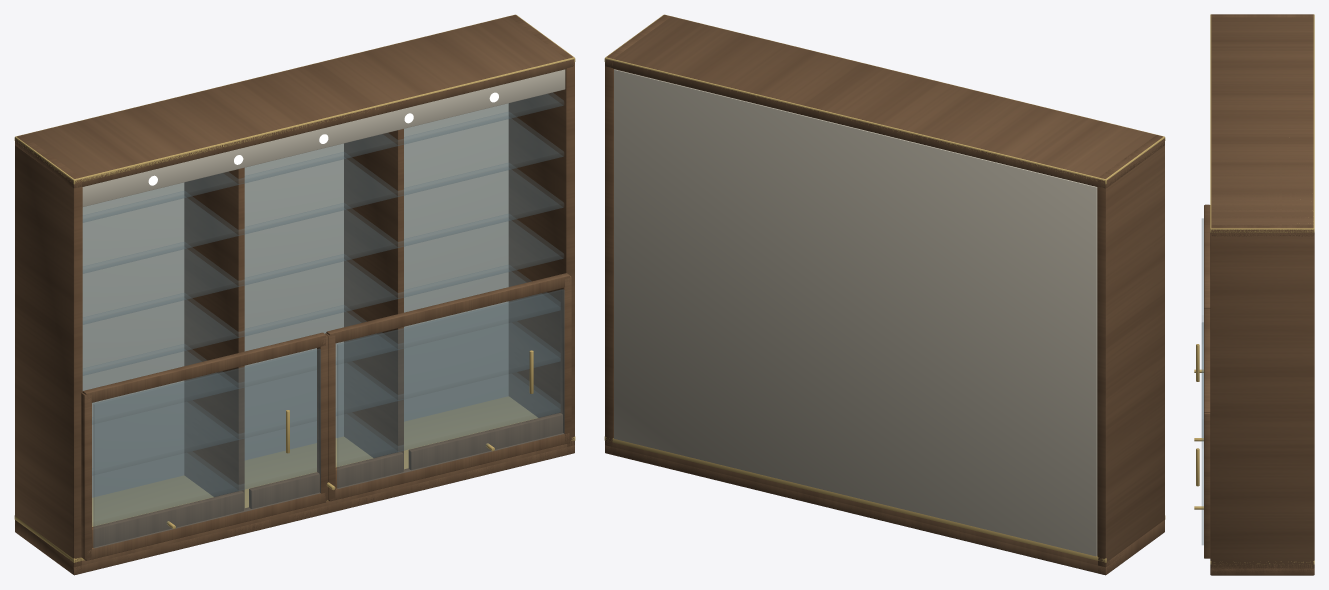
File: pf_display_built_in_cabinetry_t5.glb
The picture shows the model from 3 angles, left to right: view 1: azimuth 30°, elevation 25°; view 2: azimuth 150°, elevation 25°; view 3: azimuth 270°, elevation 25°; orthographic projection. The views are drawn at different scales.
Parts seen in each view (by area): view 1: Case_Back, Door_Glass_01, Door_Glass_02, Case_Top, Case_Left, Shelf_06, Shelf_04, Shelf_05, Case_Right, Millwork_Divider_01, Shelf_01, Shelf_02 (+19 smaller); view 2: Case_Back, Case_Top, Case_Left, Case_Base, Plinth_Base, Case_Right, Plinth_Trim, Crown_Trim; view 3: Case_Right, Case_Top, Crown_Main, Crown_Trim, Door_Frame_02_R, Case_Base, Plinth_Base, Door_Frame_01_Top, Door_Frame_02_Top, Door_Glass_02, Door_Glass_01, Case_Left.
Part boxes in pixels (left/top/right/bottom): Case_Back: left=82, top=103, right=508, bottom=497; Door_Glass_01: left=93, top=349, right=320, bottom=548; Door_Glass_02: left=337, top=289, right=564, bottom=488; Case_Top: left=15, top=16, right=573, bottom=188; Case_Left: left=15, top=135, right=82, bottom=574; Shelf_06: left=83, top=112, right=563, bottom=273; Shelf_04: left=83, top=214, right=563, bottom=375; Shelf_05: left=83, top=163, right=563, bottom=324; Case_Right: left=508, top=15, right=574, bottom=454; Millwork_Divider_01: left=184, top=167, right=244, bottom=507; Shelf_01: left=92, top=374, right=560, bottom=526; Shelf_02: left=92, top=323, right=560, bottom=475; Case_Back: left=614, top=69, right=1097, bottom=556; Case_Top: left=605, top=16, right=1164, bottom=188; Case_Left: left=1097, top=135, right=1164, bottom=573; Case_Base: left=605, top=445, right=1164, bottom=575; Plinth_Base: left=606, top=441, right=1164, bottom=572; Case_Right: left=605, top=15, right=670, bottom=454; Plinth_Trim: left=604, top=436, right=1165, bottom=562; Crown_Trim: left=604, top=14, right=1165, bottom=184; Case_Right: left=1210, top=225, right=1314, bottom=574; Case_Top: left=1210, top=16, right=1314, bottom=236; Crown_Main: left=1214, top=122, right=1310, bottom=225; Crown_Trim: left=1210, top=14, right=1314, bottom=232; Door_Frame_02_R: left=1204, top=413, right=1210, bottom=557; Case_Base: left=1210, top=568, right=1314, bottom=575; Plinth_Base: left=1212, top=564, right=1312, bottom=574; Door_Frame_01_Top: left=1204, top=204, right=1210, bottom=308; Door_Frame_02_Top: left=1204, top=309, right=1210, bottom=413; Door_Glass_02: left=1202, top=322, right=1203, bottom=544; Door_Glass_01: left=1202, top=218, right=1203, bottom=437; Case_Left: left=1211, top=14, right=1313, bottom=17.
Size of the model in its own units: 3.5 by 2.64 by 0.83.
Materials: 6 (1 with a texture image).
